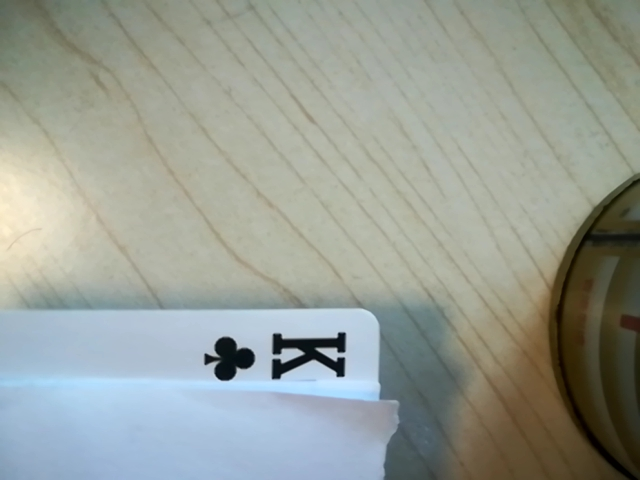mh k: (183, 319, 377, 399)
